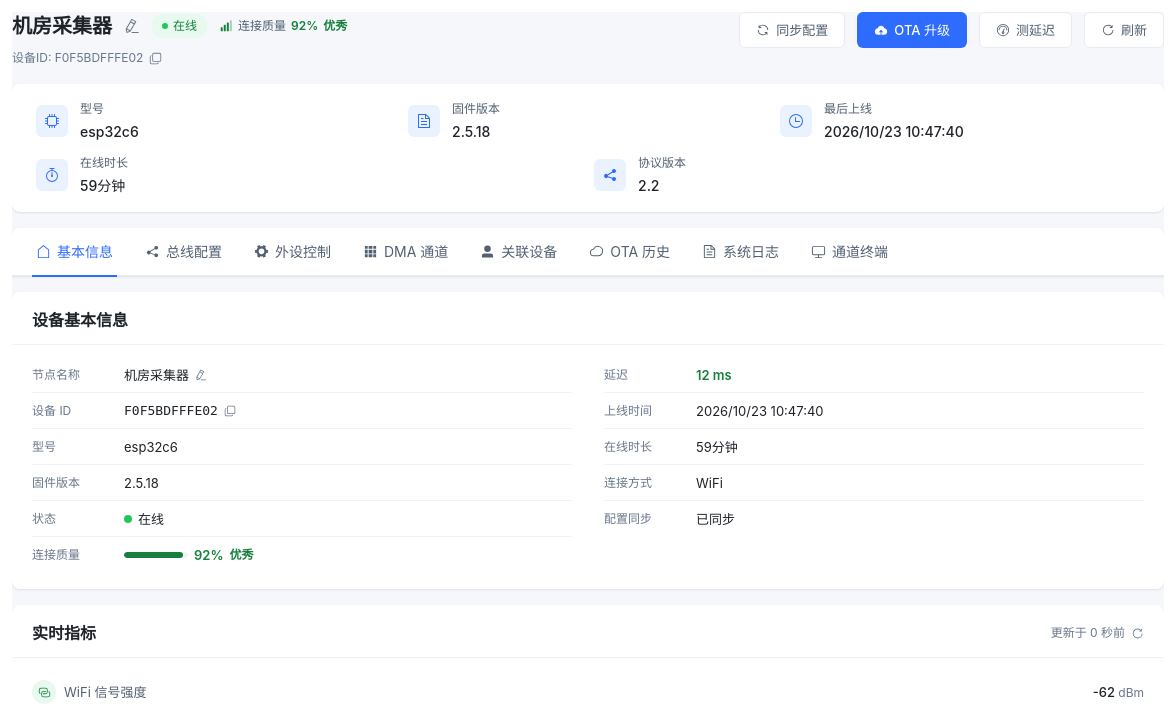
Scenario: A：总线配置页必须渲染"已创建通道"列表 › 通道列表与资源清单是两个层级：资源表照常渲染，二者不得互相替代
Click the tab with class "tab-item" showing "总线配置". click: [184, 251]
box: [145,242,222,260]
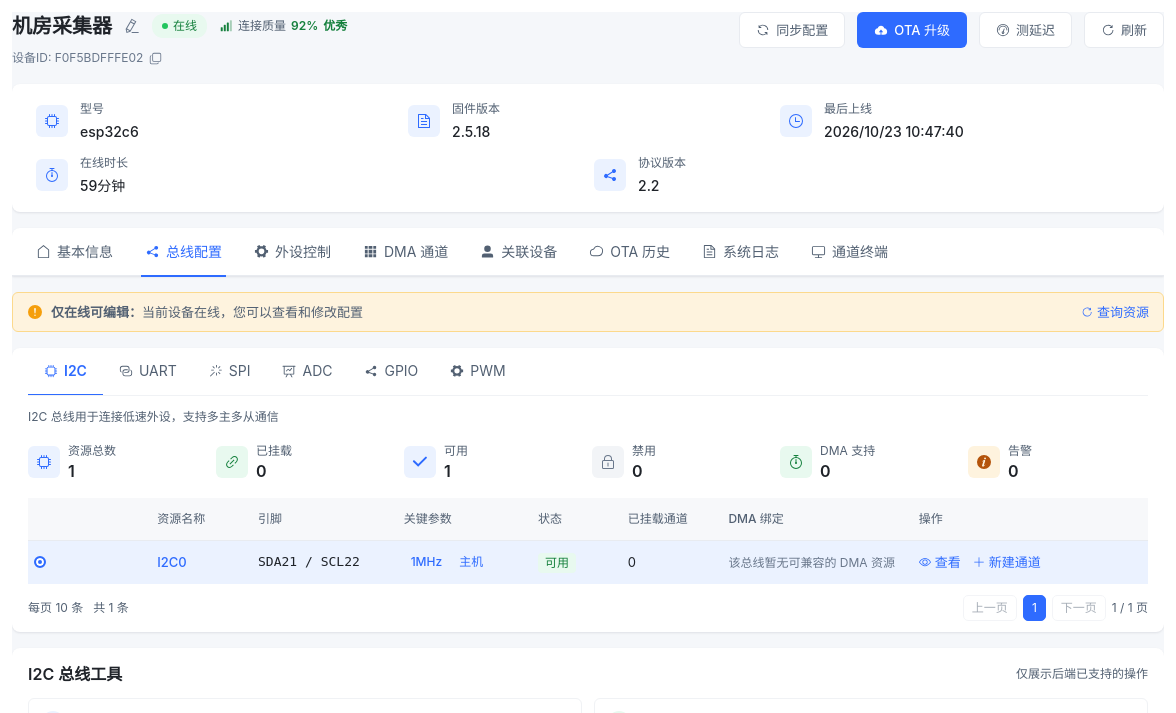
Click the button with class "bus-subtab" showing "UART". click: [148, 372]
box: [103,348,193,396]
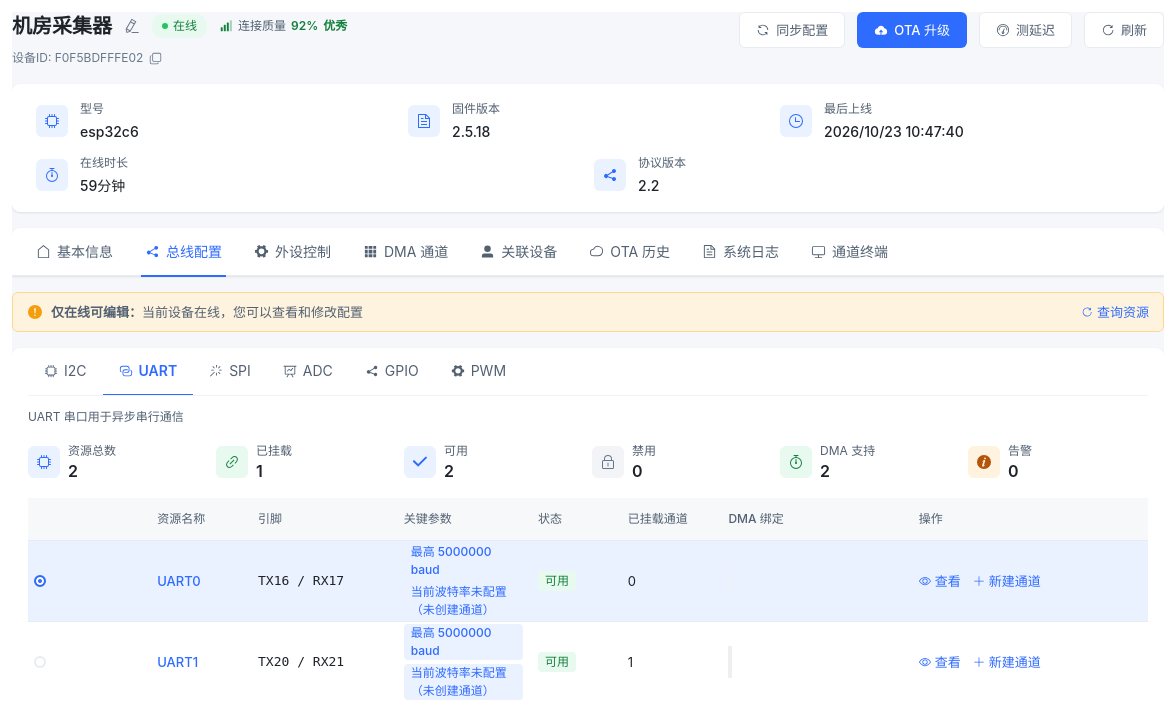
Expected: the row that starts with "UART1" is shown, [628,654,633,670]
